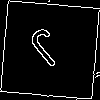J: (25, 25, 75, 77)
